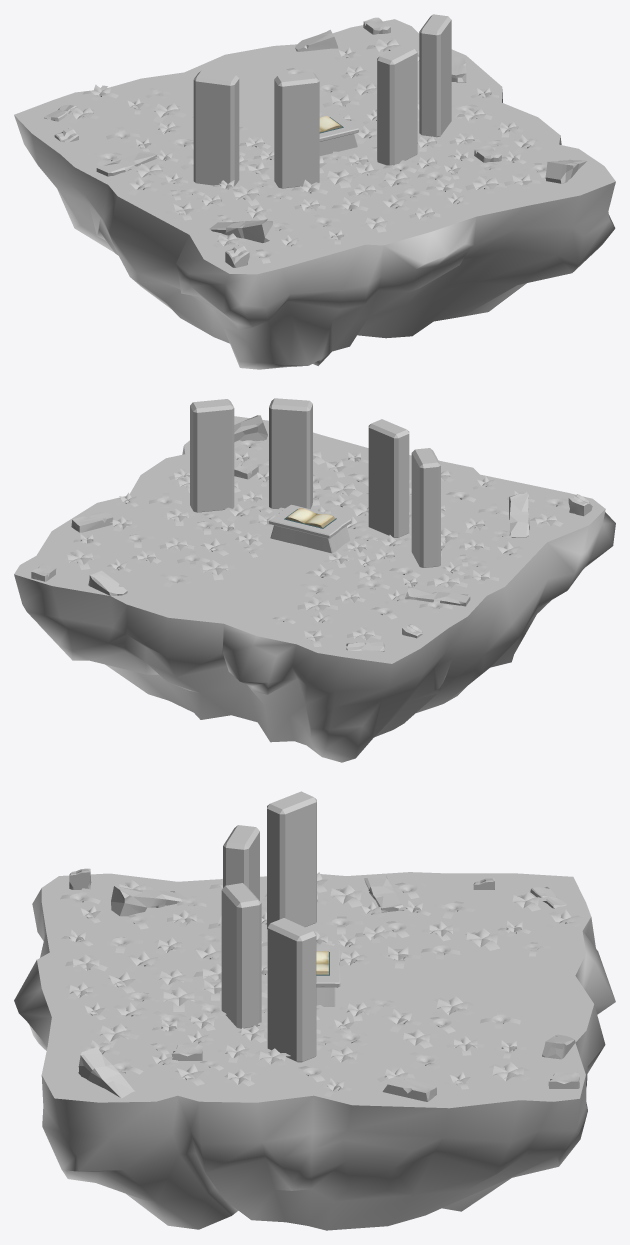
The model's file is stage09.fbx.
3 renders of one model, top to bottom at view 1: azimuth 30°, elevation 25°; view 2: azimuth 150°, elevation 25°; view 3: azimuth 270°, elevation 25°, orthographic. The views are drawn at different scales.
Visible parts, largest first — view 1: stage09_tex01, stage09_sozai04, stage09_sozai02; view 2: stage09_tex01, stage09_sozai04, stage09_sozai02, stage09_book; view 3: stage09_tex01, stage09_sozai04, stage09_sozai02.
Boxes of the visible parts, x1,y1,x2,y2 form: stage09_tex01: [14, 14, 615, 369]; stage09_sozai04: [69, 37, 546, 263]; stage09_sozai02: [44, 17, 586, 267]; stage09_tex01: [14, 398, 615, 762]; stage09_sozai04: [60, 440, 569, 646]; stage09_sozai02: [31, 415, 592, 651]; stage09_book: [284, 508, 336, 528]; stage09_tex01: [14, 791, 615, 1230]; stage09_sozai04: [60, 872, 582, 1096]; stage09_sozai02: [69, 868, 579, 1101].
Size of the model in its own units: 17.92 by 10.46 by 18.97.
